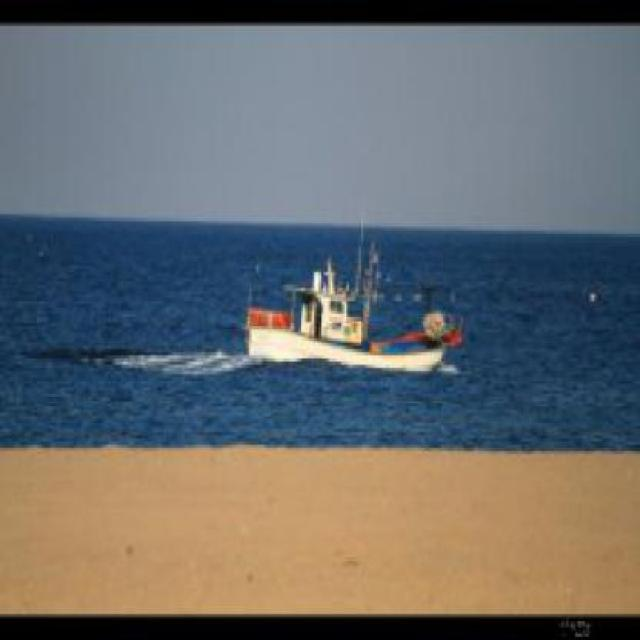fish-b: (249, 206, 467, 385)
